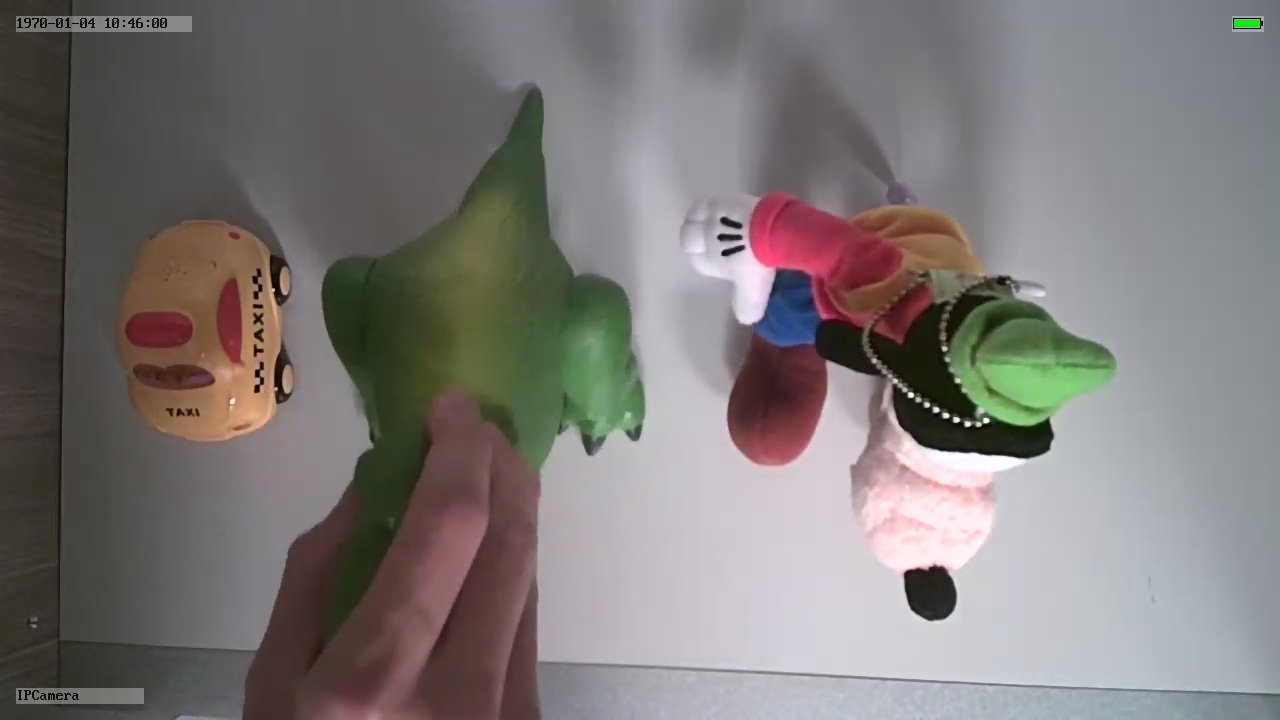car: (111, 211, 299, 445)
goofy: (678, 182, 1120, 623)
